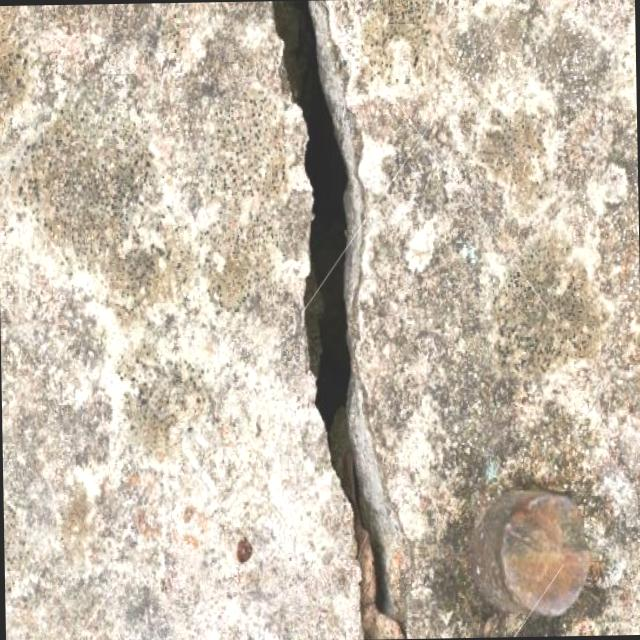spall: (260, 0, 410, 637)
